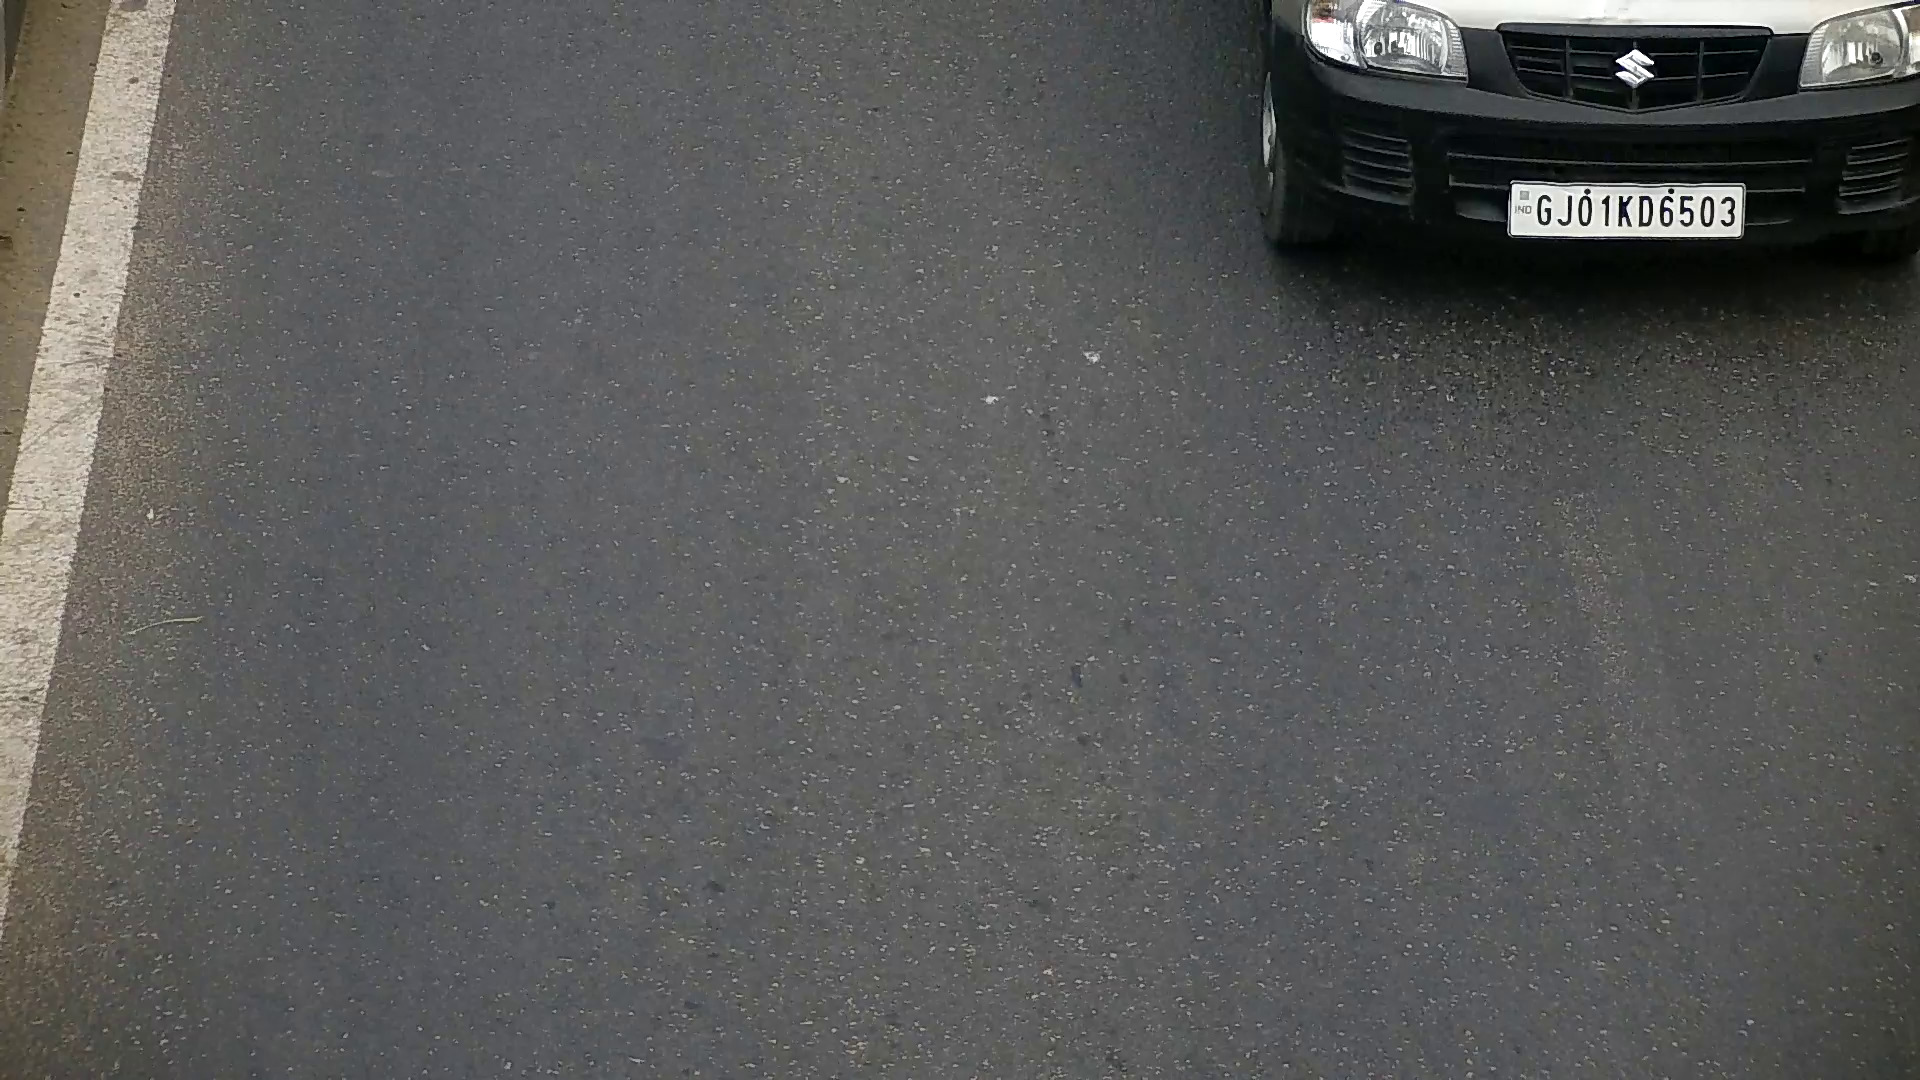numberplate: (1506, 177, 1746, 242)
